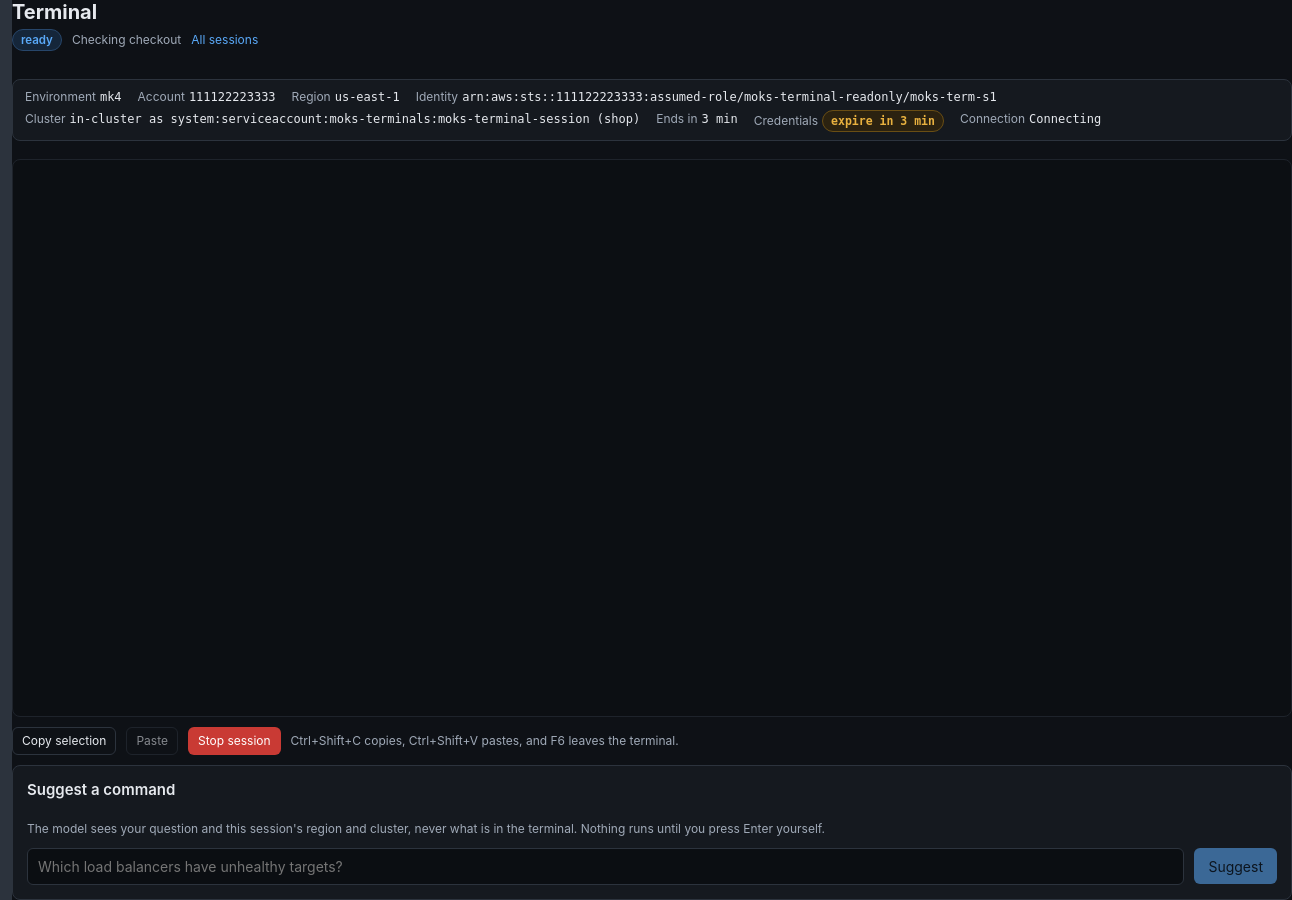
Test case: a running session › places a suggestion without running it
The width and height of the screenshot is (1292, 900).
Check: the button "Copy selection" is shown, box [12,727,116,755]
Type "list buckets" into the field named "What do you want to find out?". click: (606, 866)
box: [27,848,1184,884]
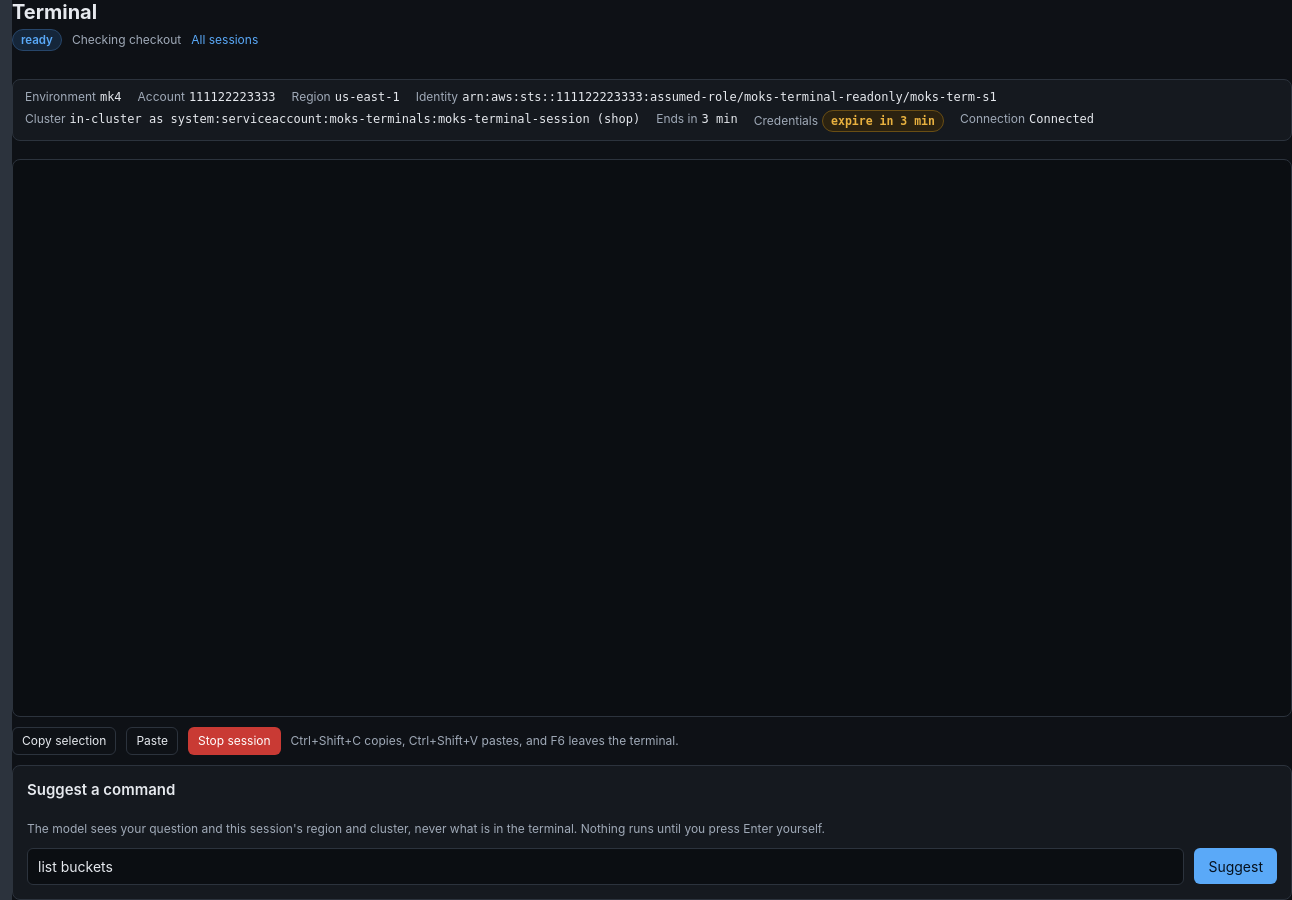
Click the button "Suggest". click: (1236, 866)
box: [1194,848,1277,884]
(page scrolled)
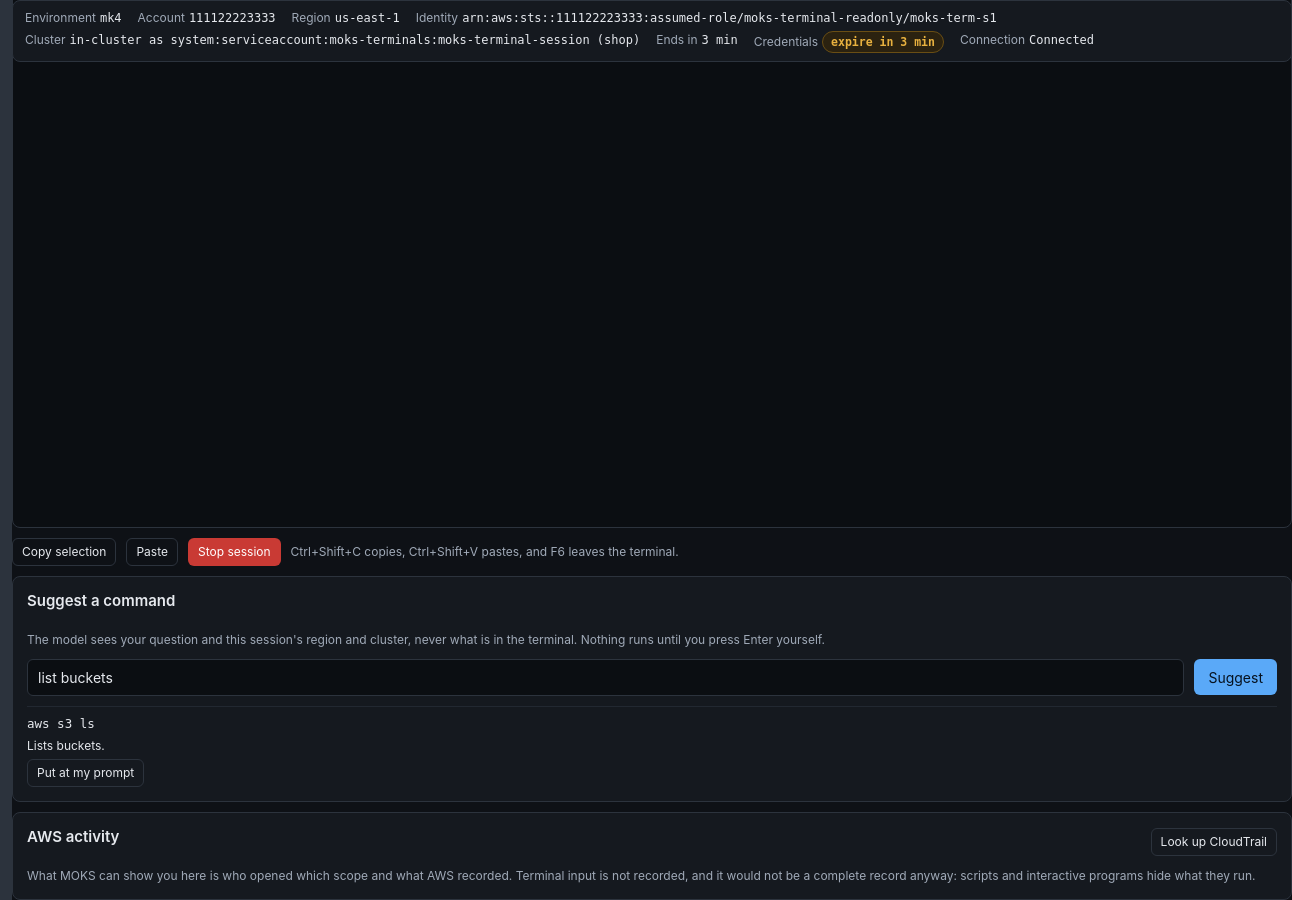
Click the button "Put at my prompt". click: (86, 773)
box: [27,759,144,787]
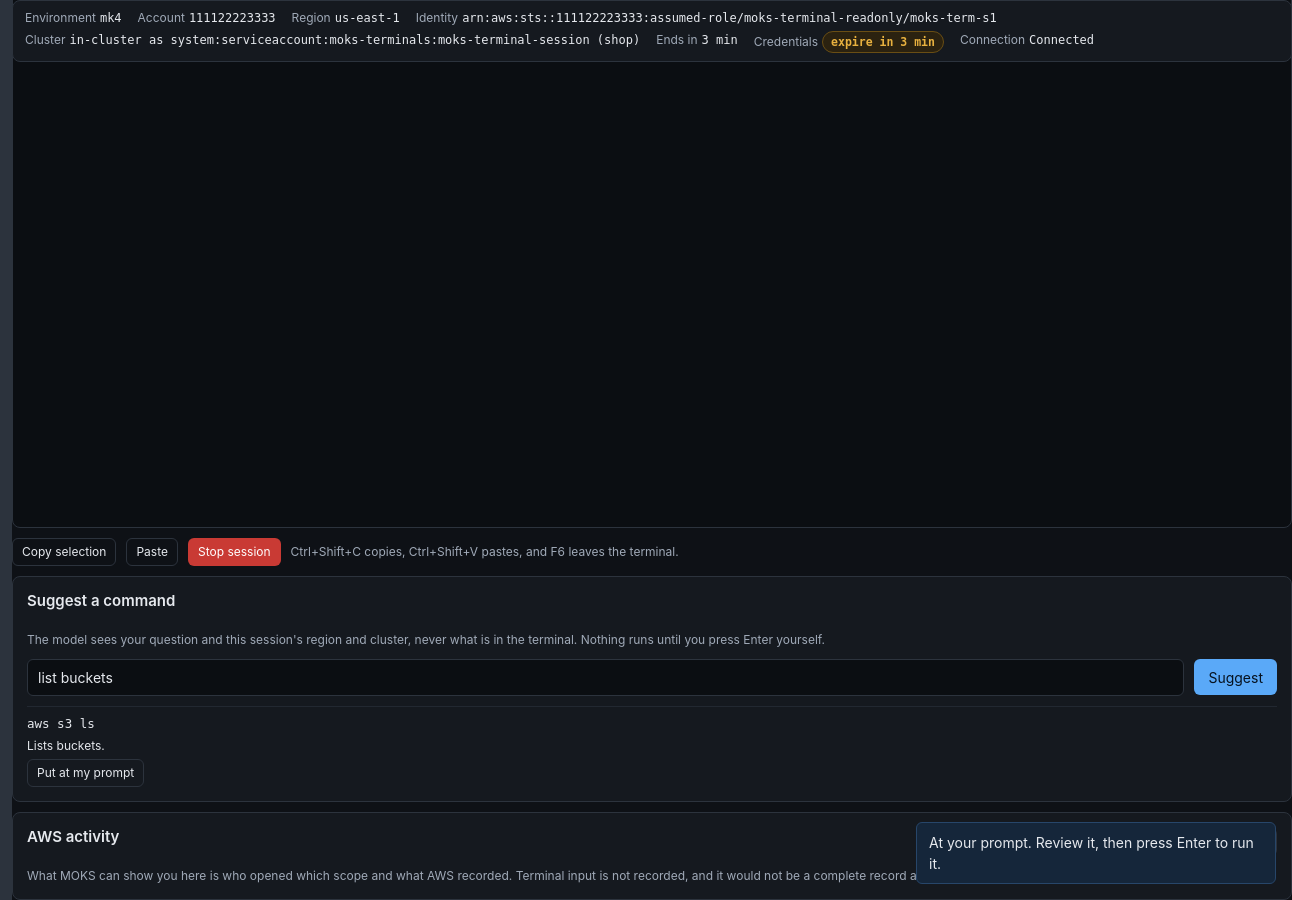
Check: the text "At your prompt. Review it, then press Enter to run it." is shown, box [916,822,1276,884]
